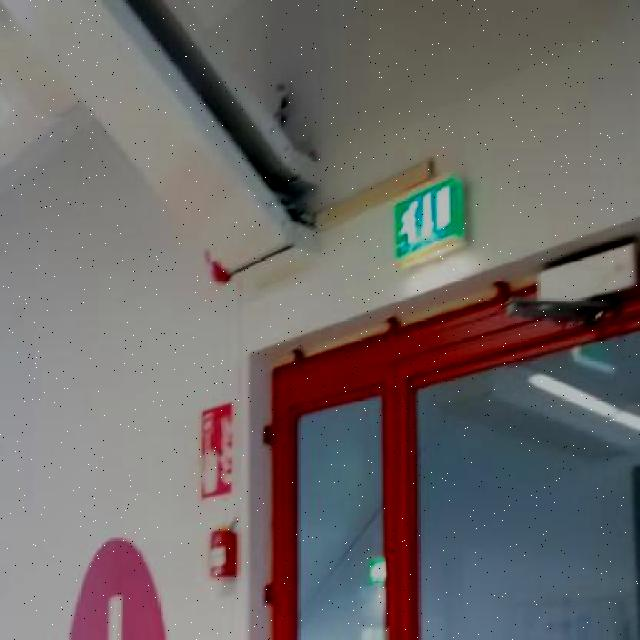emergency_exit: (391, 173, 468, 268), (199, 402, 235, 499)
